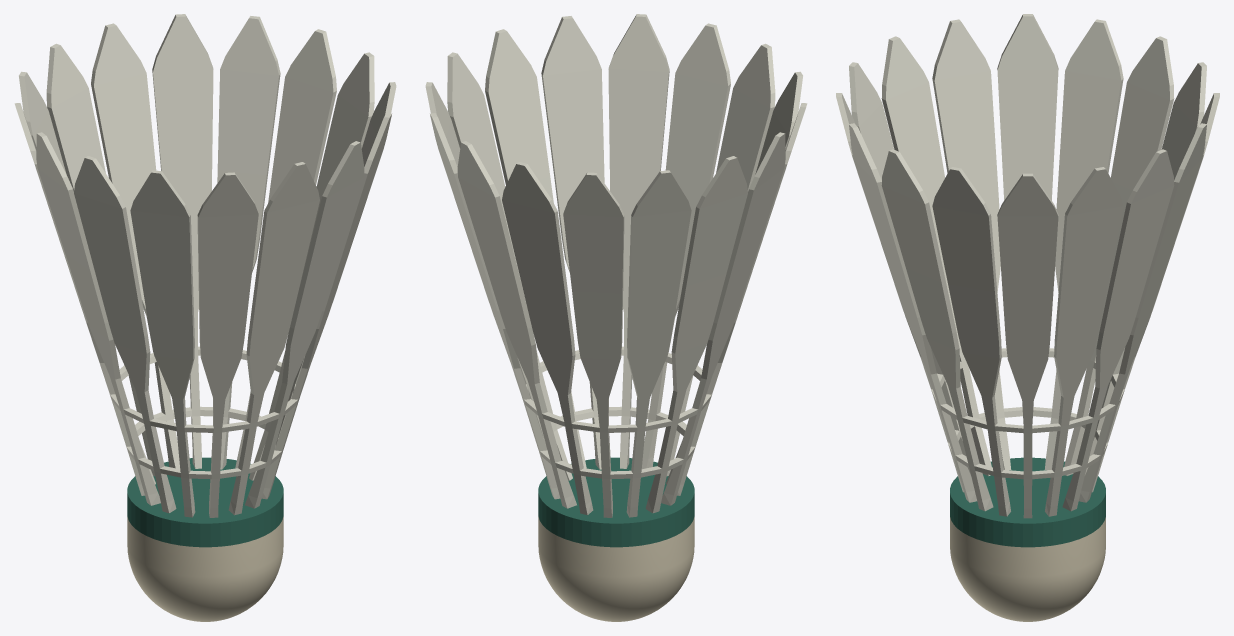
The model's file is A-NEW-20261027-SHUTTLECOCK-001_LOD0_R8.glb.
3 renders of one model, left to right at view 1: azimuth 30°, elevation 25°; view 2: azimuth 150°, elevation 25°; view 3: azimuth 270°, elevation 25°, orthographic.
Parts seen in each view (by area): view 1: shared topology head and sixteen distinct feathers; view 2: shared topology head and sixteen distinct feathers; view 3: shared topology head and sixteen distinct feathers.
Boxes of the visible parts, bbox=[...] form: shared topology head and sixteen distinct feathers: bbox=[14, 14, 396, 621]; shared topology head and sixteen distinct feathers: bbox=[425, 14, 807, 621]; shared topology head and sixteen distinct feathers: bbox=[836, 14, 1219, 621].
Size of the model in its own units: 0.0589 by 0.088 by 0.0589.
